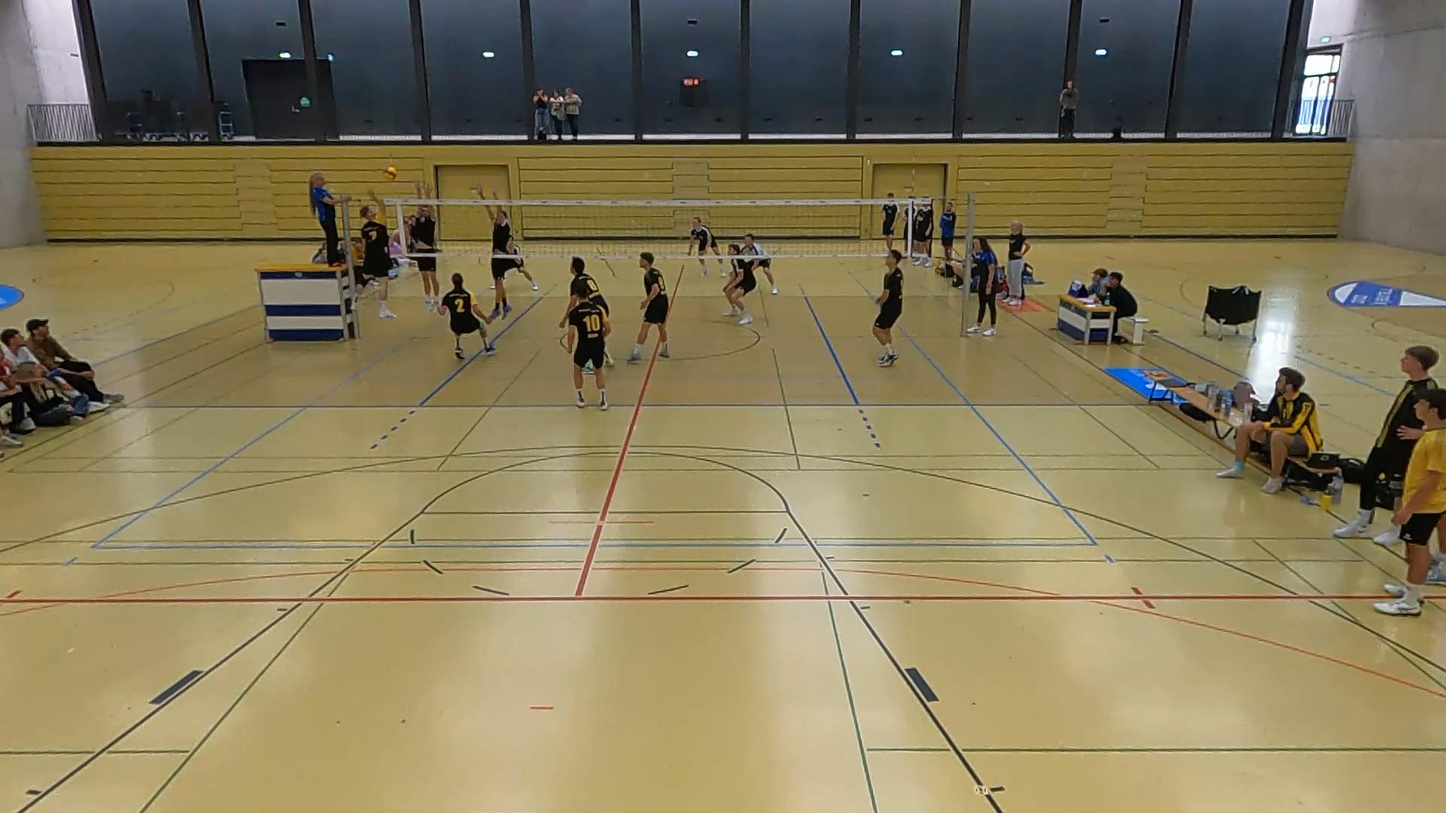Attack: (331, 191, 409, 327)
Block: (471, 186, 516, 324), (413, 178, 447, 309)
Player: (435, 273, 495, 359), (566, 300, 610, 410), (627, 251, 669, 362), (558, 256, 609, 327), (872, 250, 902, 366), (725, 244, 756, 324), (741, 233, 776, 294), (689, 217, 723, 276), (508, 239, 538, 291)
ball: (382, 163, 399, 181)
